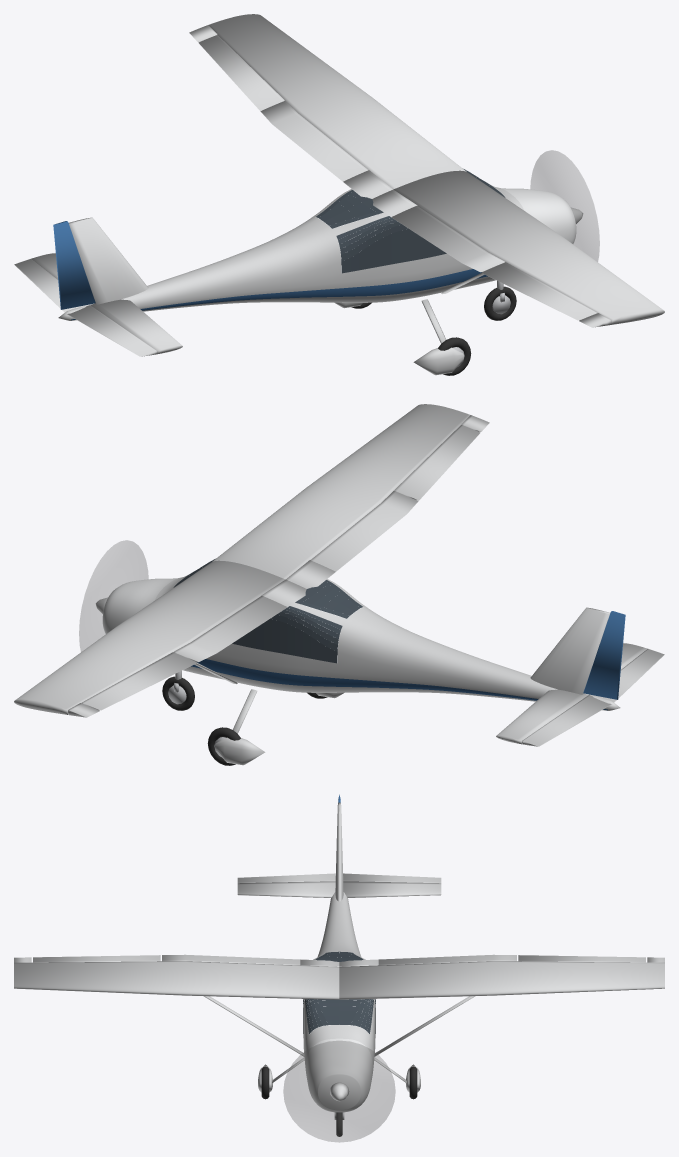
The model's file is wren_lod0.glb.
The picture shows the model from 3 angles, top to bottom: view 1: azimuth 30°, elevation 25°; view 2: azimuth 150°, elevation 25°; view 3: azimuth 270°, elevation 25°; orthographic projection. The views are drawn at different scales.
Visible parts, largest first — view 1: fuselage, wing_L, wing_R, glass, fin, prop_1_disc, flap_L_1, flap_R_1, elevator, stabilizer, rudder, aileron_L (+3 smaller); view 2: fuselage, wing_R, wing_L, glass, fin, prop_1_disc, flap_R_1, flap_L_1, elevator, stabilizer, rudder, aileron_R (+3 smaller); view 3: wing_L, wing_R, prop_1_disc, fuselage, stabilizer, glass, elevator, flap_L_1, flap_R_1, aileron_L, aileron_R, fin.
Boxes of the visible parts, x1,y1,x2,y2 form: fuselage: [58, 185, 576, 320]; wing_L: [189, 14, 466, 198]; wing_R: [372, 170, 664, 327]; glass: [316, 169, 505, 273]; fin: [68, 217, 148, 304]; prop_1_disc: [530, 150, 599, 261]; flap_L_1: [260, 101, 368, 181]; flap_R_1: [391, 206, 504, 272]; elevator: [14, 259, 156, 356]; stabilizer: [31, 253, 182, 354]; rudder: [53, 221, 95, 309]; aileron_L: [198, 35, 284, 110]; fuselage: [102, 575, 620, 710]; wing_R: [212, 404, 489, 588]; wing_L: [14, 560, 306, 717]; glass: [173, 559, 362, 663]; fin: [530, 607, 610, 694]; prop_1_disc: [79, 540, 148, 651]; flap_R_1: [310, 491, 418, 571]; flap_L_1: [174, 596, 287, 662]; elevator: [522, 649, 664, 746]; stabilizer: [496, 643, 647, 744]; rudder: [583, 611, 625, 699]; aileron_R: [394, 425, 480, 500]; wing_L: [339, 957, 664, 999]; wing_R: [14, 957, 339, 999]; prop_1_disc: [283, 1041, 395, 1142]; fuselage: [303, 892, 375, 1112]; stabilizer: [237, 881, 441, 897]; glass: [303, 951, 375, 1033]; elevator: [237, 873, 441, 883]; flap_L_1: [378, 954, 516, 965]; flap_R_1: [162, 954, 300, 965]; aileron_L: [518, 955, 645, 962]; aileron_R: [33, 955, 160, 962]; fin: [335, 802, 343, 901].
Bounding box in the file's own units: 8.35 × 3.08 × 11.
